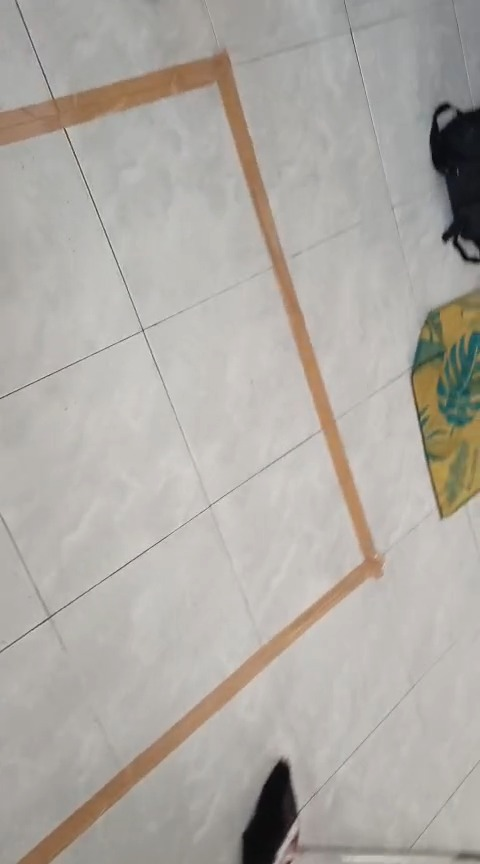floor marking: (1, 53, 382, 863)
